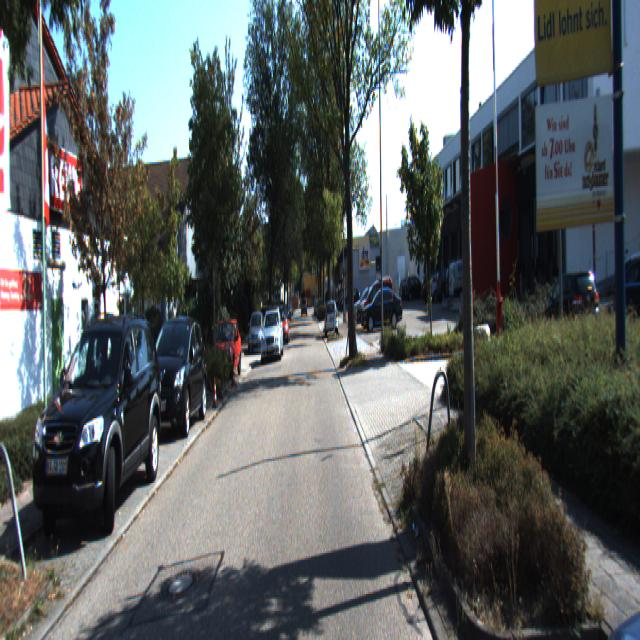Car: (30, 312, 166, 554), (588, 328, 639, 638), (142, 310, 208, 440), (209, 318, 242, 386), (359, 274, 397, 328), (361, 285, 404, 329), (259, 308, 284, 362), (325, 298, 339, 338)
DontCare: (540, 260, 600, 361), (406, 263, 441, 311), (286, 288, 319, 324), (243, 300, 260, 364)
Van: (448, 256, 489, 307)
